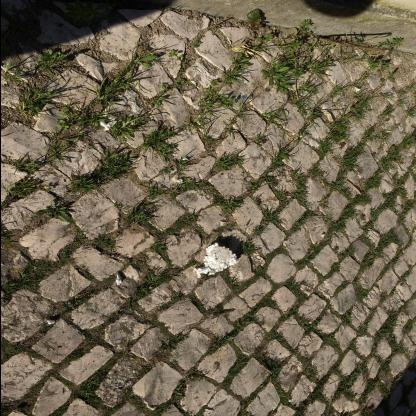kopuk: (194, 242, 240, 278)
